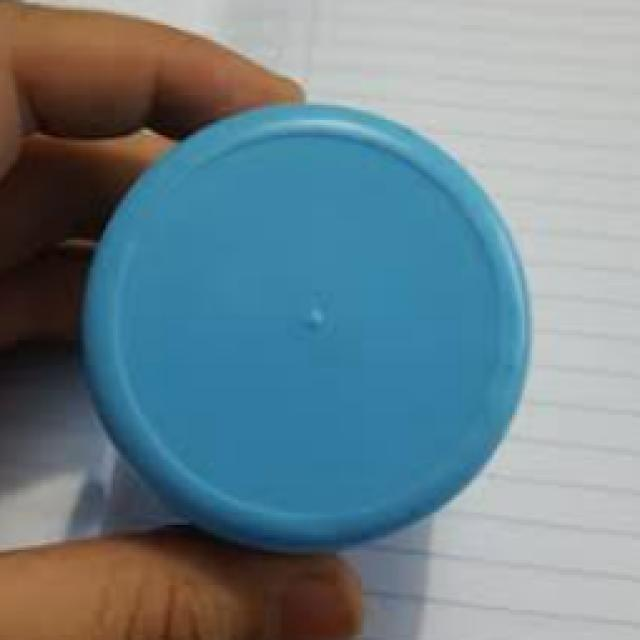TutupGalon: (62, 97, 534, 555)
